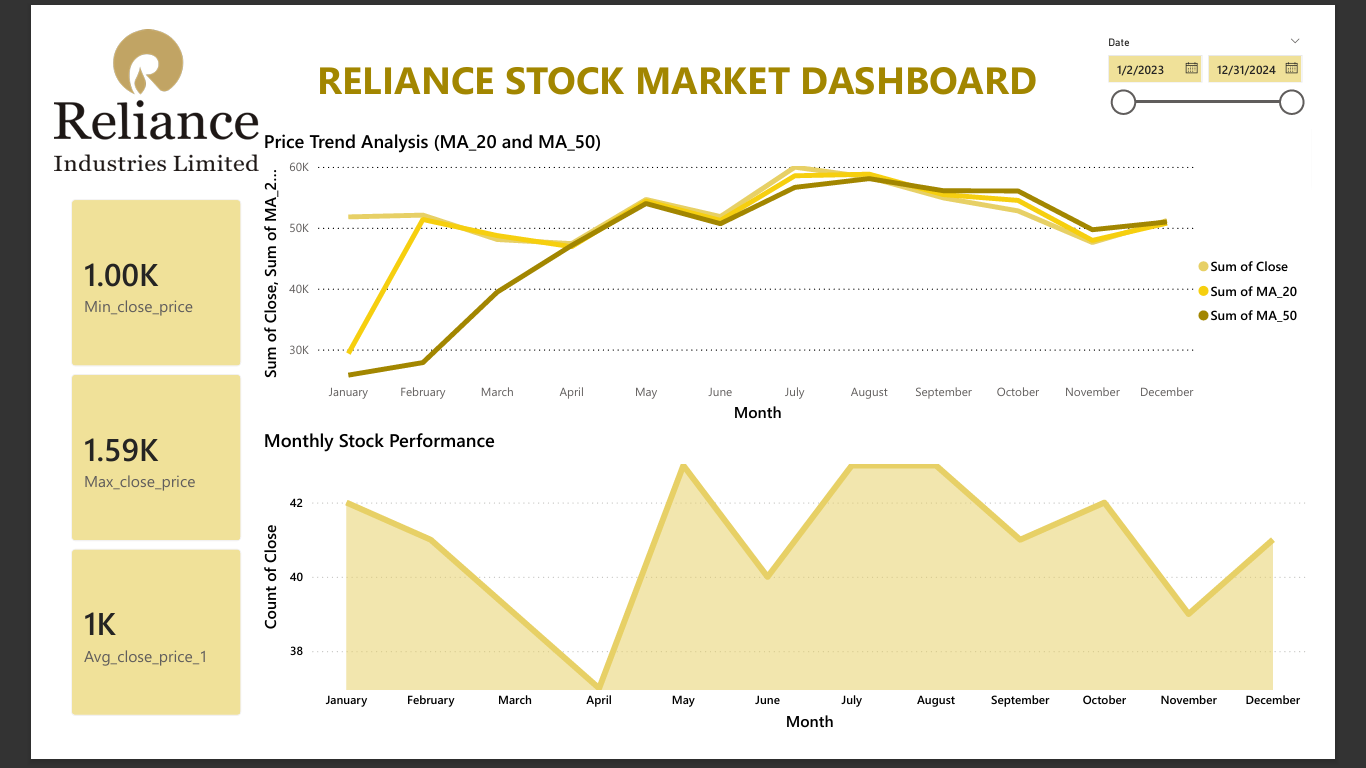

The dashboard page shown, as its layout file describes it:
{"tool":"powerbi","page":{"name":"Page 1","canvas":[1280,720],"ordinal":0},"visuals":[{"type":"lineChart","title":"Monthly Stock Performance","fields":{"Y":["CountNonNull(reliance_final.Close)"],"Category":["reliance_final.Date.Variation.Date Hierarchy.Year","reliance_final.Date.Variation.Date Hierarchy.Quarter","reliance_final.Date.Variation.Date Hierarchy.Month","reliance_final.Date.Variation.Date Hierarchy.Day"]},"box":[207.8,406,1072.2,313.8],"z":0},{"type":"cardVisual","fields":{"Data":["reliance_final.Min_close_price","reliance_final.Max_close_price","reliance_final.Avg_close_price_1"]},"box":[0,156.9,207.8,562.9],"z":1000},{"type":"lineChart","title":"Price Trend Analysis (MA_20 and MA_50)","fields":{"Category":["reliance_final.Date.Variation.Date Hierarchy.Year","reliance_final.Date.Variation.Date Hierarchy.Quarter","reliance_final.Date.Variation.Date Hierarchy.Month","reliance_final.Date.Variation.Date Hierarchy.Day"],"Y":["Sum(reliance_final.Close)","Sum(reliance_final.MA_20)","Sum(reliance_final.MA_50)"]},"box":[207.8,101.8,1072.2,304.2],"z":2000},{"type":"shape","box":[207.8,0,852,101.8],"z":3000},{"type":"image","box":[0,0,207.8,145.9],"z":4000},{"type":"slicer","fields":{"Values":["reliance_final.Date"]},"box":[1059.8,2.8,220.2,99.1],"z":5000}]}

Visuals, with their boxes in screenshot pixels (x1, y1, x2, y2), scaled from the page's 1280x720 canvas onto the 1366x768 screenshot:
"Monthly Stock Performance" lineChart: [222,433,1365,767]
cardVisual - reliance_final.Min_close_price x reliance_final.Max_close_price: [0,167,222,767]
"Price Trend Analysis (MA_20 and MA_50)" lineChart: [222,109,1365,433]
shape: [222,0,1131,109]
image: [0,0,222,156]
slicer - reliance_final.Date: [1131,3,1365,109]
